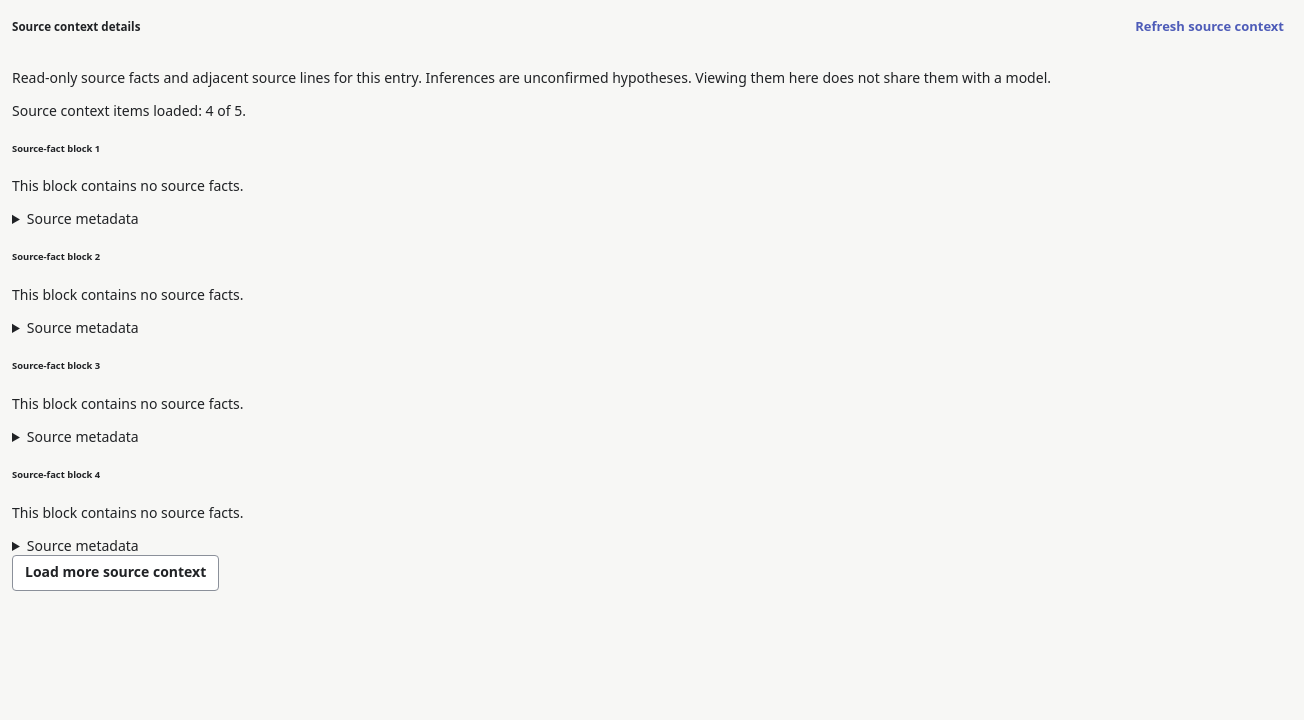
Scenario: hides previous pages if the source result changes before the next page
The image size is (1304, 720).
expect the text "Source context items loaded: 4 of 5." is shown: met, box [12,101,246,120]
Click the button "Load more source context": (116, 572) [12,554,219,590]
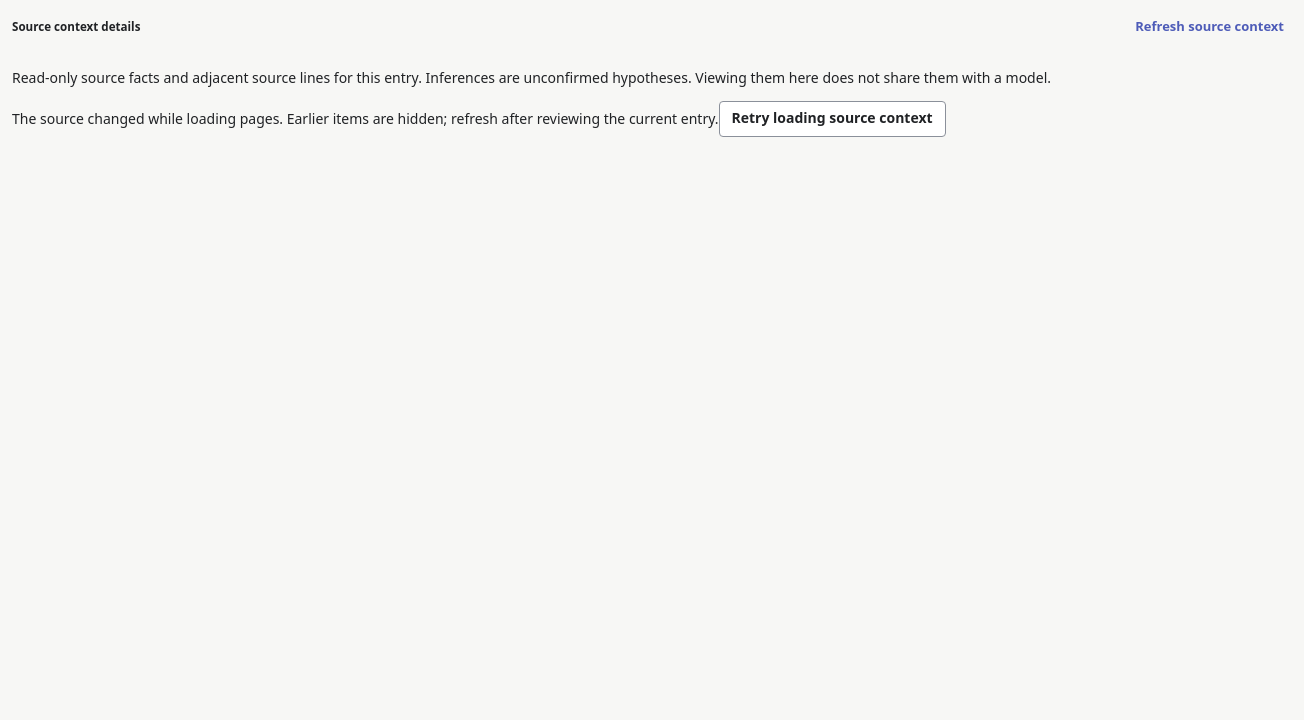
expect the text "The source changed while loading pages" is shown: met, box [12,108,718,127]
expect the heading "Source-fact block 1" is gone: met
